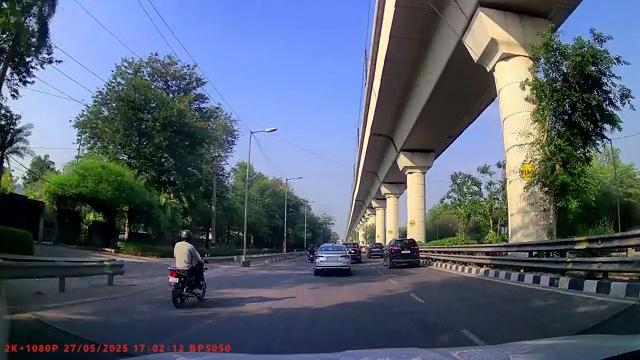motorcycle_with_helmet: (168, 228, 208, 310)
